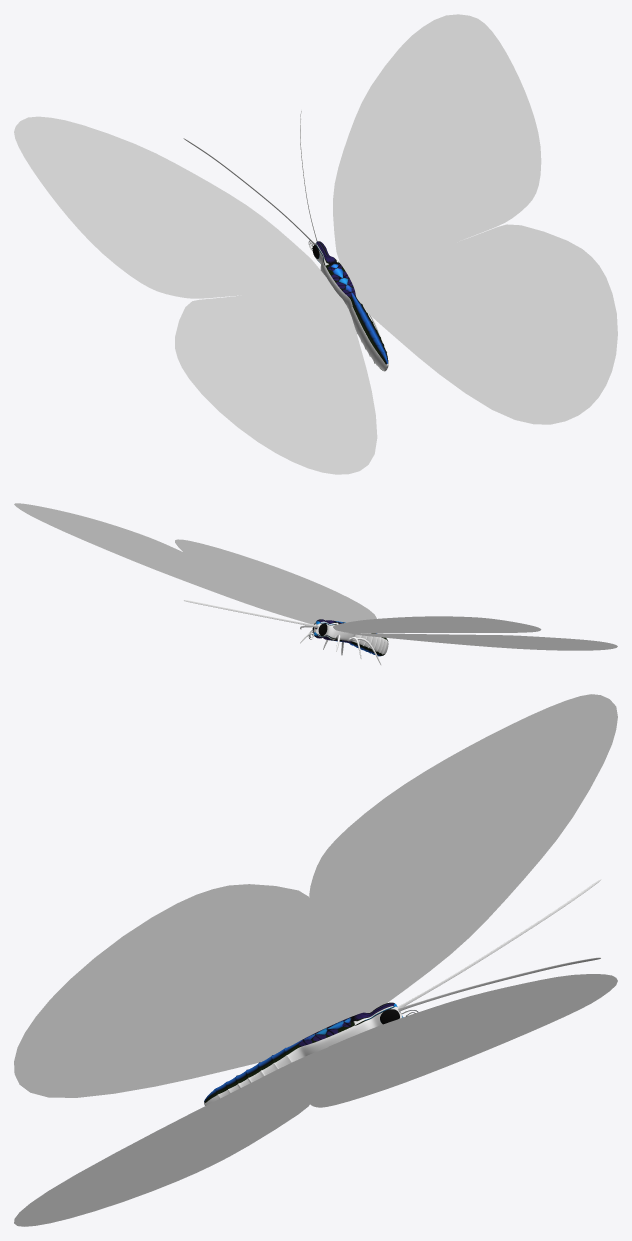
Rendered from Blue_butterfly.obj.
3 renders of one model, top to bottom at view 1: azimuth 30°, elevation 25°; view 2: azimuth 150°, elevation 25°; view 3: azimuth 270°, elevation 25°, orthographic. The views are drawn at different scales.
Parts seen in each view (by area): view 1: wing_up_Plane.002, wing_down_Plane.004, Cube_Cube.001; view 2: wing_up_Plane.002, wing_down_Plane.004, Cube_Cube.001; view 3: wing_up_Plane.002, wing_down_Plane.004, Cube_Cube.001.
Part boxes in pixels (x1,y1,x2,y2): wing_up_Plane.002: [14, 14, 541, 298]; wing_down_Plane.004: [175, 224, 617, 474]; Cube_Cube.001: [183, 109, 388, 371]; wing_up_Plane.002: [14, 503, 541, 632]; wing_down_Plane.004: [175, 539, 617, 650]; Cube_Cube.001: [183, 600, 388, 665]; wing_up_Plane.002: [309, 694, 617, 1107]; wing_down_Plane.004: [14, 884, 328, 1226]; Cube_Cube.001: [204, 879, 601, 1105].
Size of the model in its own units: 3.25 by 1.45 by 2.62.
3 materials, 1 textured.
